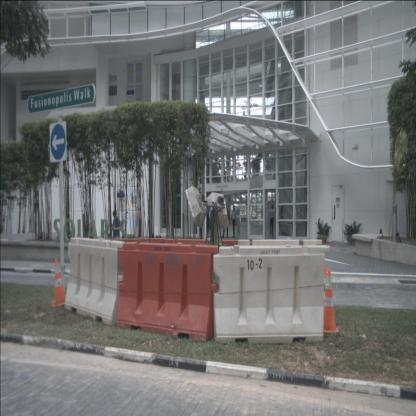barrier: (213, 245, 330, 344), (118, 242, 218, 343), (65, 237, 124, 326)
cone: (318, 270, 340, 333), (51, 258, 68, 308), (320, 265, 334, 323)
